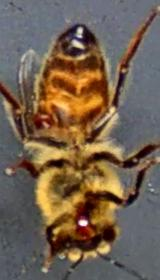varroa_mite: (29, 111, 58, 130)
